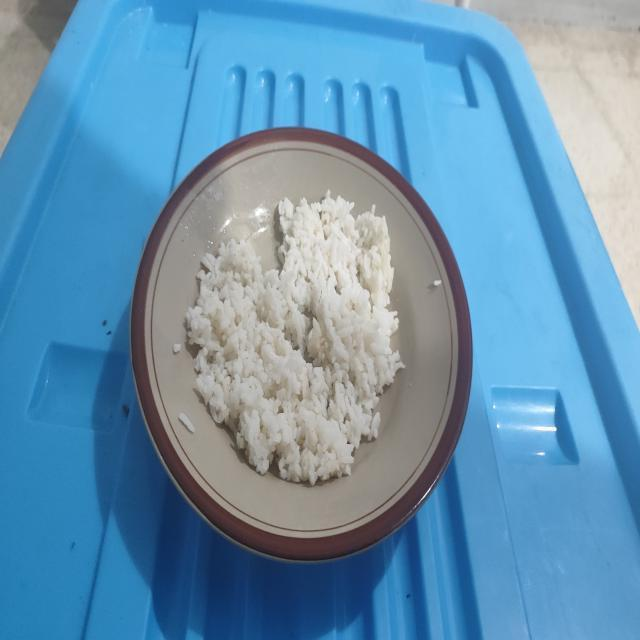nasi_putih: (185, 190, 405, 486)
